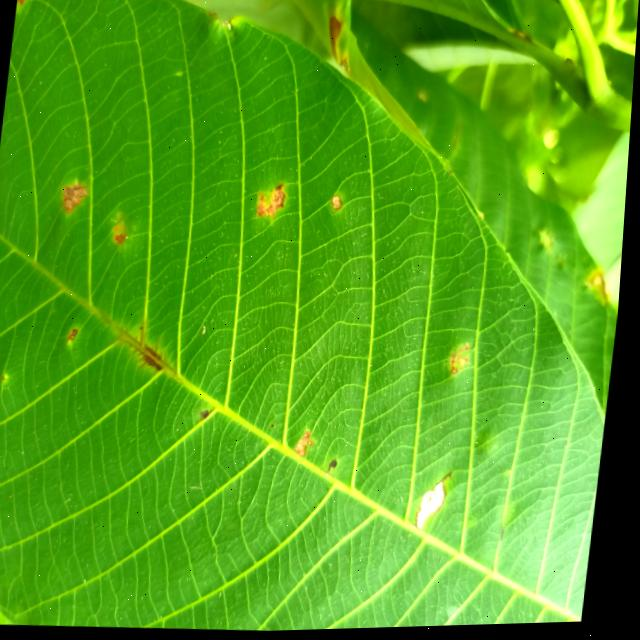Colletotrichum: (332, 196, 345, 213)
Corynespora: (127, 335, 172, 374)
Leaf-Blight: (423, 483, 452, 533), (61, 184, 91, 215), (300, 433, 316, 459)
